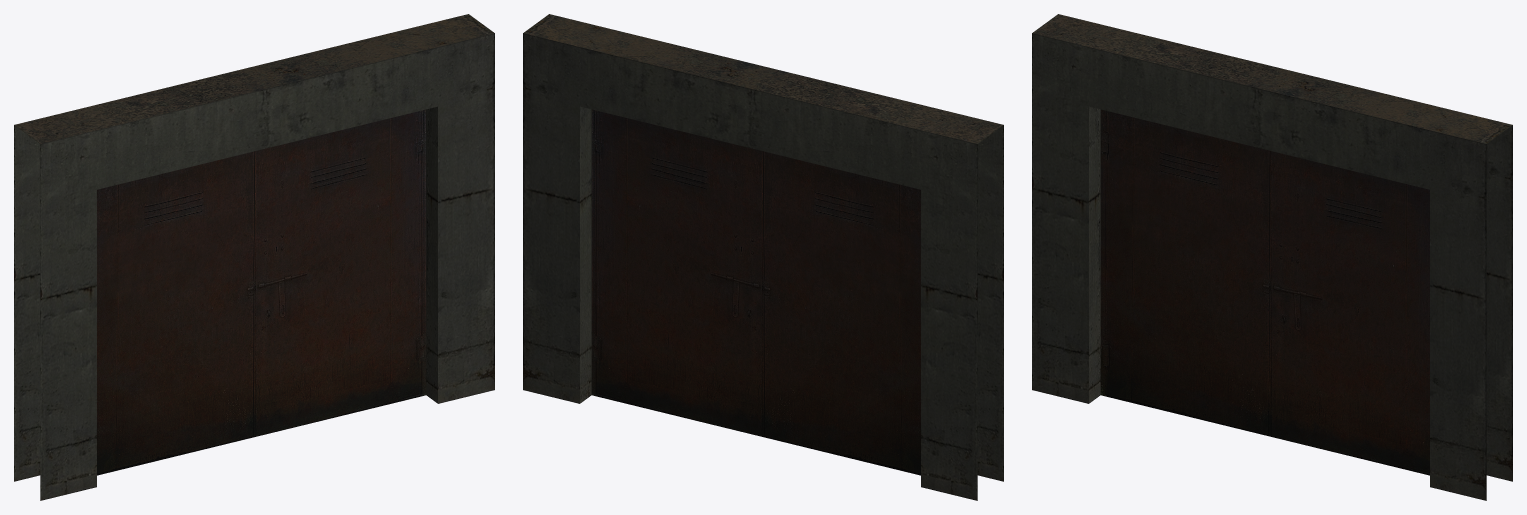
The model's file is garage_door_frame_rg_2.dae.
The picture shows the model from 3 angles, left to right: view 1: azimuth 30°, elevation 25°; view 2: azimuth 150°, elevation 25°; view 3: azimuth 330°, elevation 25°; orthographic projection.
Parts seen in each view (by area): view 1: garage_door_hm_3, garage_door_frame_rg_2; view 2: garage_door_hm_3, garage_door_frame_rg_2; view 3: garage_door_hm_3, garage_door_frame_rg_2.
Part boxes in pixels (<box>): garage_door_hm_3: <box>97,109,426,475</box>; garage_door_frame_rg_2: <box>14,14,494,500</box>; garage_door_hm_3: <box>591,109,920,475</box>; garage_door_frame_rg_2: <box>523,14,1003,500</box>; garage_door_hm_3: <box>1100,109,1429,475</box>; garage_door_frame_rg_2: <box>1032,14,1512,500</box>.
Bounding box in the file's own units: 4 × 0.4 × 3.
3 materials, 3 textured.
